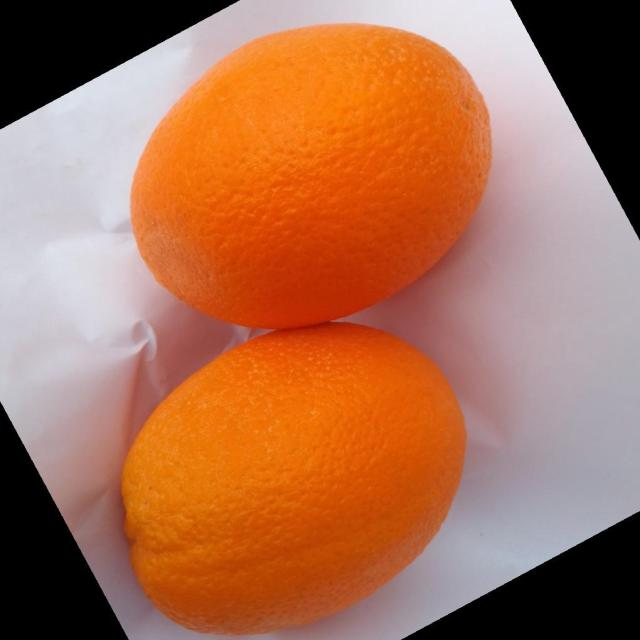fresh orange: (128, 21, 493, 330), (120, 320, 468, 635)
